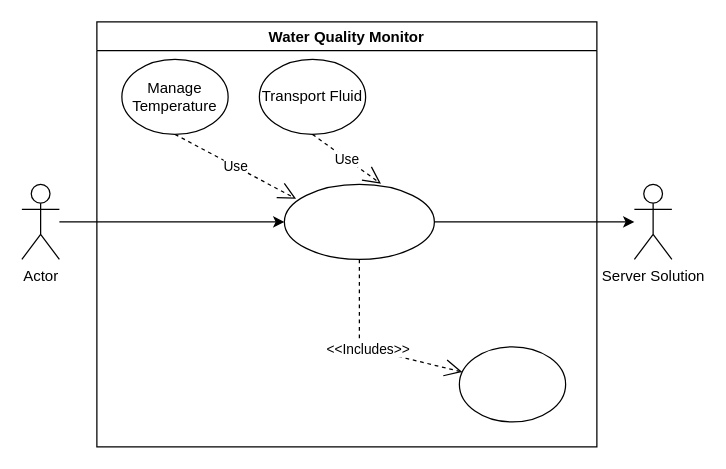
Some shapes in this 726 by 469 pixel diagram are drawn without their labels. Here are the shapes that lost their labels. From the top down, the box of each, then its label:
(283, 183, 434, 259): Measure Water Quality
(458, 346, 566, 422): Take Microscopic Image
